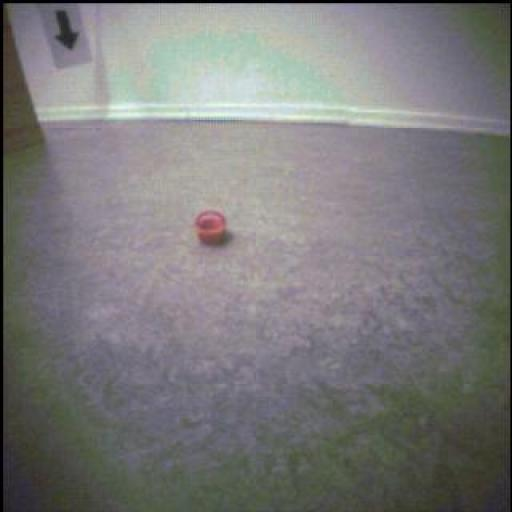Arrow: (57, 12, 79, 51)
Bucket: (195, 210, 232, 246)
